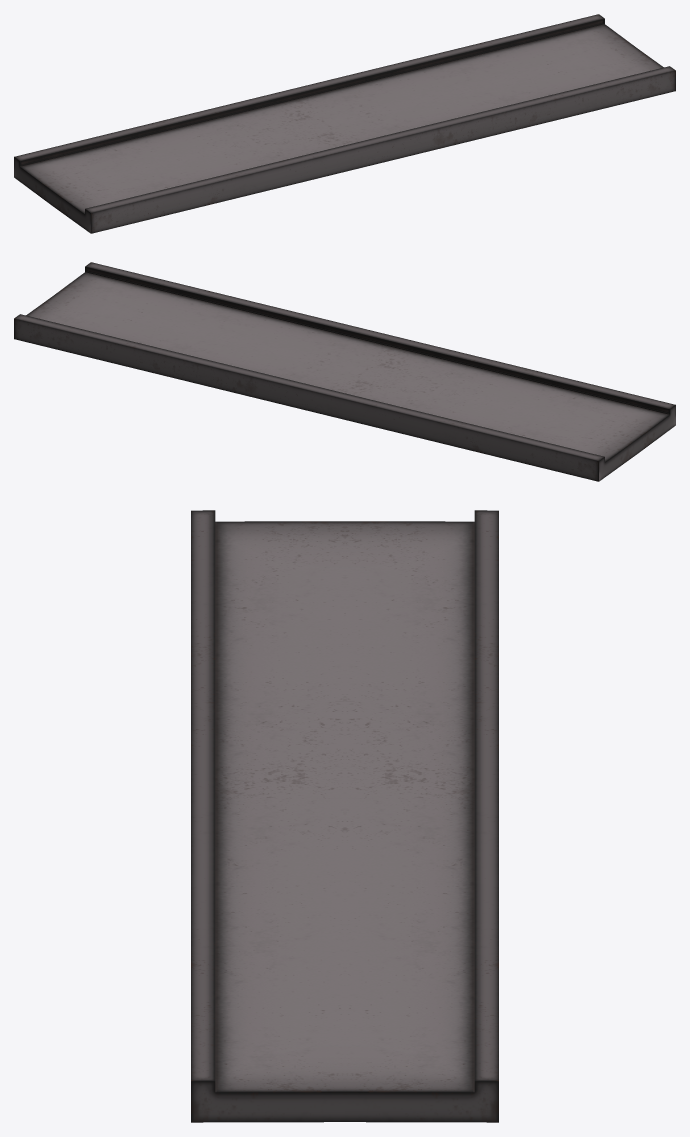
Rendered from Factory_BridgeGround1.fbx.
3 renders of one model, top to bottom at view 1: azimuth 30°, elevation 25°; view 2: azimuth 150°, elevation 25°; view 3: azimuth 270°, elevation 25°, orthographic. The views are drawn at different scales.
Parts seen in each view (by area): view 1: Plane.054; view 2: Plane.054; view 3: Plane.054.
Part boxes in pixels (x1=…): Plane.054: x1=14, y1=14, x2=675, y2=233; Plane.054: x1=14, y1=262, x2=675, y2=481; Plane.054: x1=191, y1=510, x2=498, y2=1122.
Size of the model in its own units: 1821 by 61.11 by 415.
Materials: 1 (1 with a texture image).
